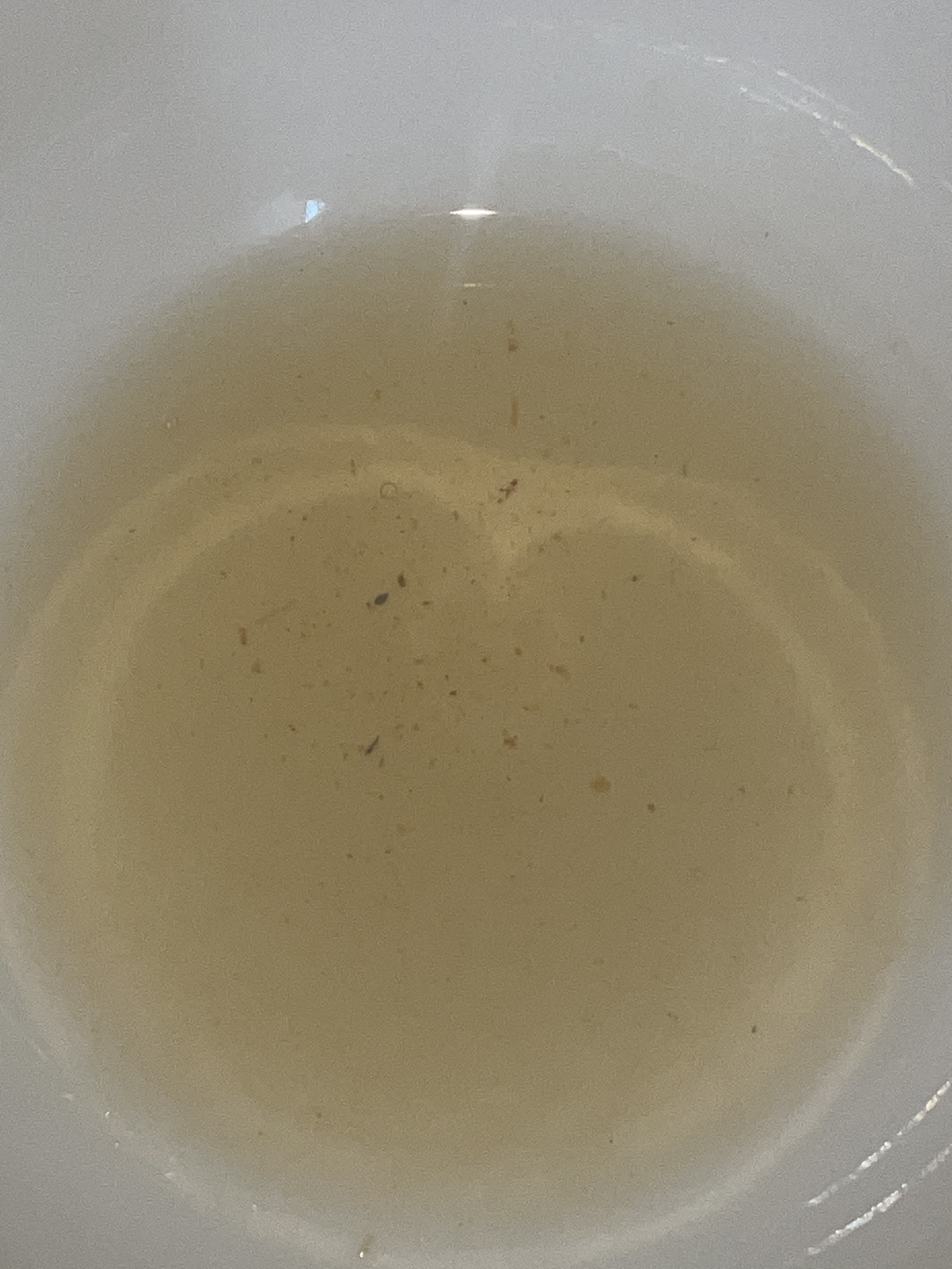reusable: (0, 205, 952, 1231)
